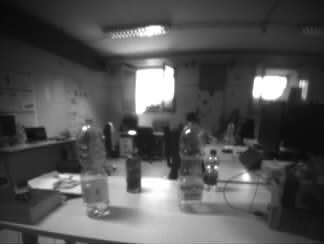Bottle: (79, 119, 111, 219), (181, 123, 204, 210), (127, 149, 142, 191), (206, 150, 220, 188)
